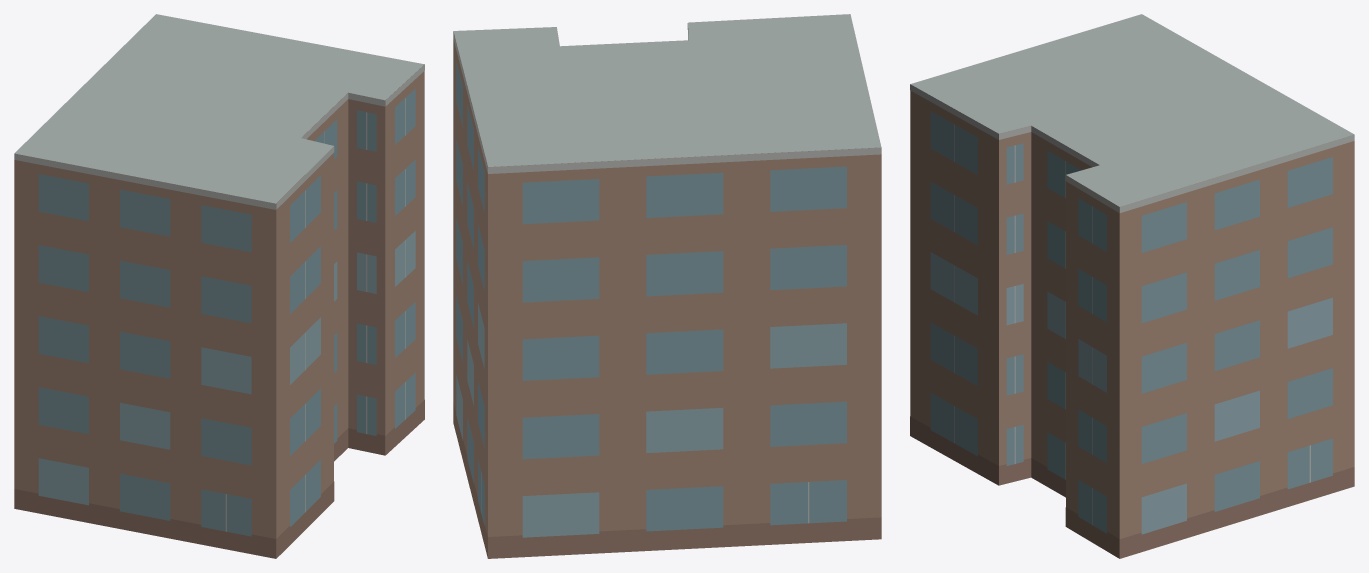
File: survey-upis-32591219.glb
The picture shows the model from 3 angles, left to right: view 1: azimuth 30°, elevation 25°; view 2: azimuth 150°, elevation 25°; view 3: azimuth 270°, elevation 25°; orthographic projection. The views are drawn at different scales.
Parts seen in each view (by area): view 1: survey-upis-32591219.tmp; view 2: survey-upis-32591219.tmp; view 3: survey-upis-32591219.tmp.
Boxes of the visible parts, box(x1,y1,x2,y2) form: survey-upis-32591219.tmp: box(14, 14, 424, 558); survey-upis-32591219.tmp: box(453, 14, 881, 558); survey-upis-32591219.tmp: box(910, 14, 1354, 558).
Bounding box in the file's own units: 16.14 × 13.71 × 15.7.
